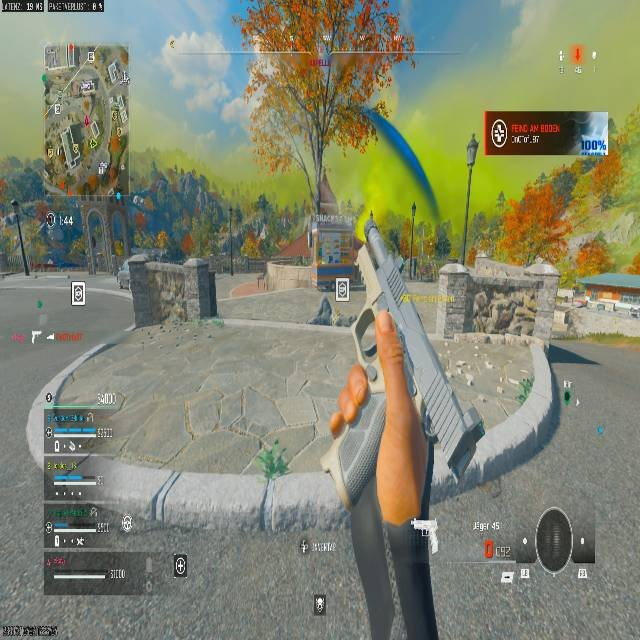player: (312, 280, 338, 325)
